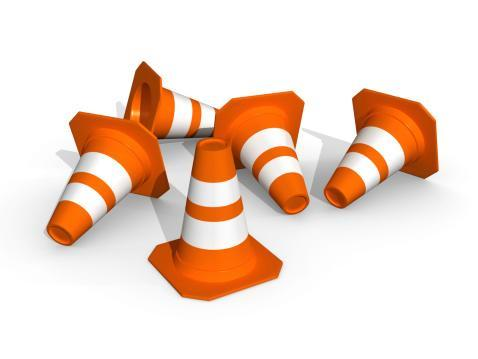Cone: (147, 138, 284, 303), (44, 111, 170, 250), (324, 88, 440, 211), (213, 90, 311, 214), (122, 61, 222, 140)
